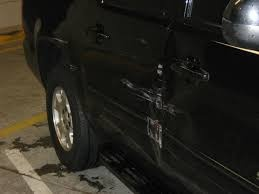Scratch: (120, 76, 183, 116), (146, 120, 170, 152)
